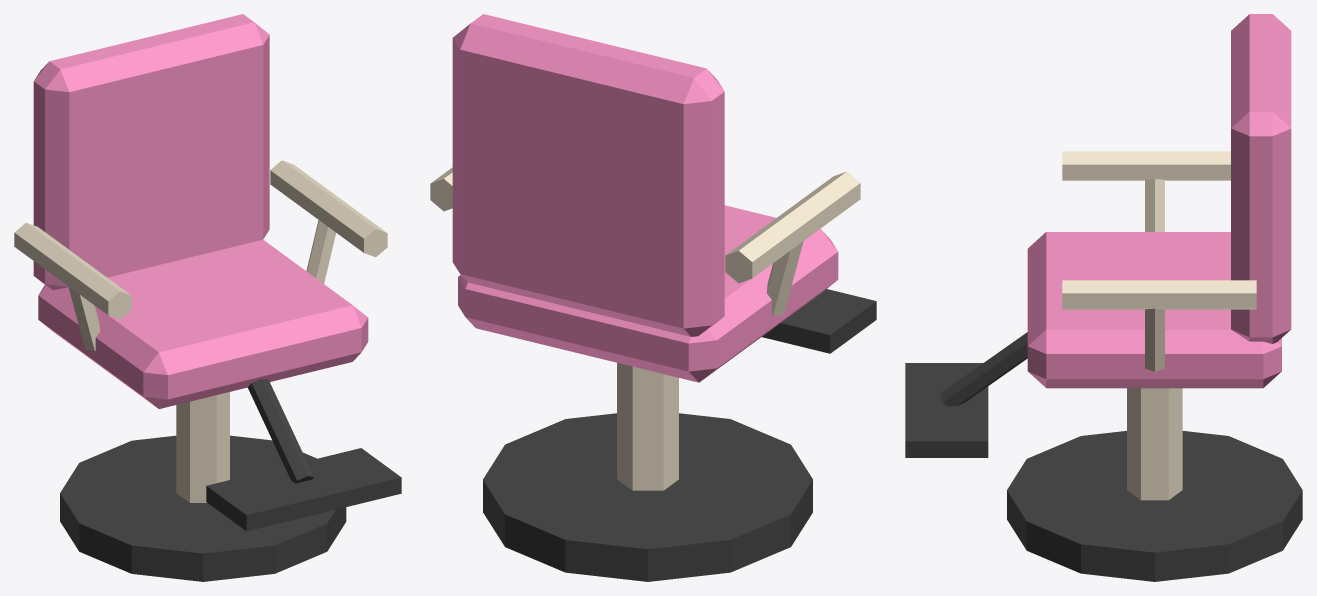
The picture shows the model from 3 angles, left to right: view 1: azimuth 30°, elevation 25°; view 2: azimuth 150°, elevation 25°; view 3: azimuth 270°, elevation 25°; orthographic projection. The views are drawn at different scales.
Visible parts, largest first — view 1: Back, Seat, Base, Footrest, Hydraulic post, Arm.001, Arm, Footrest support, Arm support.001, Arm support; view 2: Back, Base, Seat, Hydraulic post, Arm, Footrest, Arm support, Arm.001; view 3: Base, Seat, Back, Footrest, Hydraulic post, Arm.001, Arm, Footrest support, Arm support.001, Arm support.
Boxes of the visible parts, left/top/right/bottom form: Back: left=33, top=14, right=269, bottom=290; Seat: left=38, top=239, right=368, bottom=408; Base: left=60, top=435, right=346, bottom=581; Footrest: left=206, top=448, right=401, bottom=531; Hydraulic post: left=176, top=392, right=229, bottom=502; Arm.001: left=270, top=160, right=387, bottom=257; Arm: left=14, top=222, right=131, bottom=319; Footrest support: left=247, top=379, right=313, bottom=483; Arm support.001: left=306, top=220, right=335, bottom=283; Arm support: left=68, top=286, right=100, bottom=350; Back: left=452, top=14, right=724, bottom=336; Base: left=483, top=413, right=812, bottom=581; Seat: left=458, top=205, right=838, bottom=382; Hydraulic post: left=617, top=363, right=678, bottom=490; Arm: left=725, top=171, right=860, bottom=283; Footrest: left=762, top=289, right=876, bottom=353; Arm support: left=766, top=241, right=803, bottom=315; Arm.001: left=430, top=167, right=452, bottom=211; Base: left=1007, top=431, right=1302, bottom=581; Seat: left=1027, top=232, right=1281, bottom=388; Back: left=1231, top=14, right=1291, bottom=343; Footrest: left=905, top=363, right=988, bottom=457; Hydraulic post: left=1127, top=388, right=1182, bottom=500; Arm.001: left=1062, top=280, right=1256, bottom=309; Arm: left=1062, top=151, right=1230, bottom=180; Footrest support: left=940, top=332, right=1027, bottom=406; Arm support.001: left=1145, top=308, right=1164, bottom=371; Arm support: left=1145, top=179, right=1164, bottom=231.
Size of the model in its own units: 0.7206 by 1.09 by 0.86.
1 material, 1 textured.
